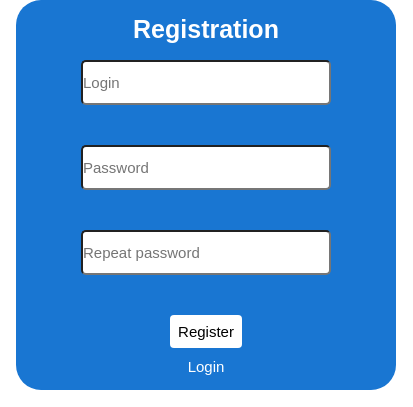
Test: registration component › Error element: The field should not be empty
This screenshot has width=413, height=407.
Step 1. Type "Password2" into the password field with test id "registrationPassword" → (206, 168), box [81,145,331,190]
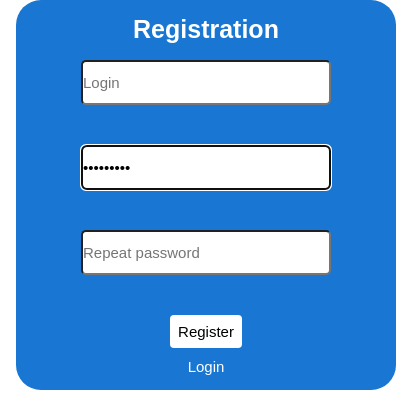
Step 2. Type "Password2" into the password field with test id "registrationRepeatedPassword" → (206, 252), box [81,230,331,275]
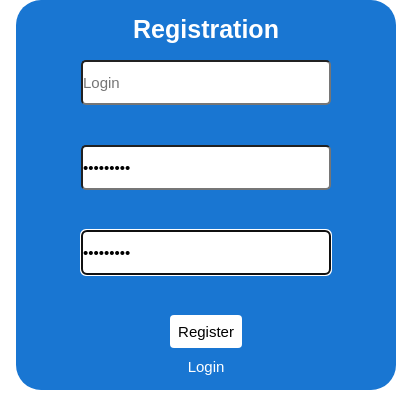
Step 3. Click the button with test id "loginButton" → (206, 332), box [170,315,242,348]
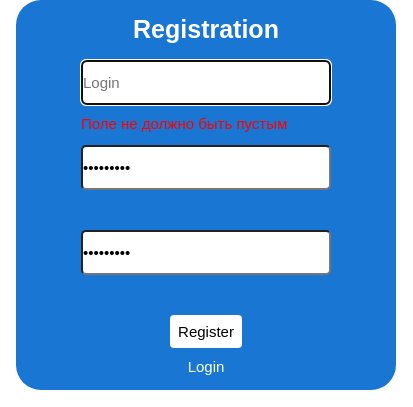
Check: the text "Поле не должно быть пустым" is shown, box [81,115,287,132]
